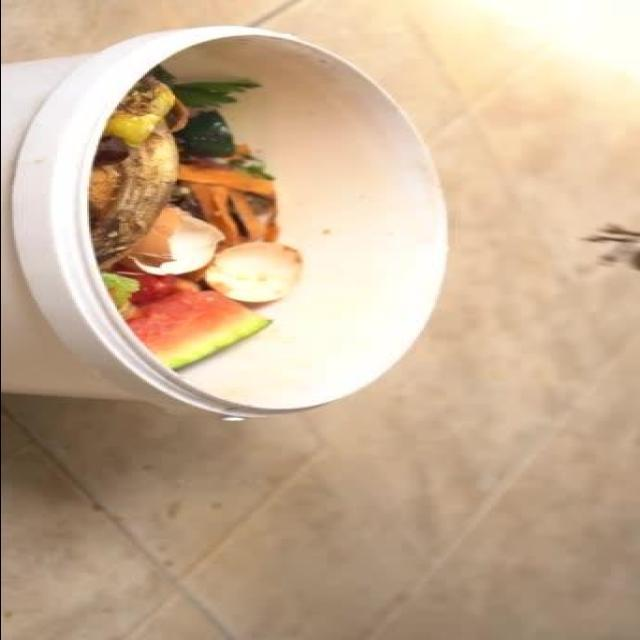Garbage: (89, 64, 309, 374)
